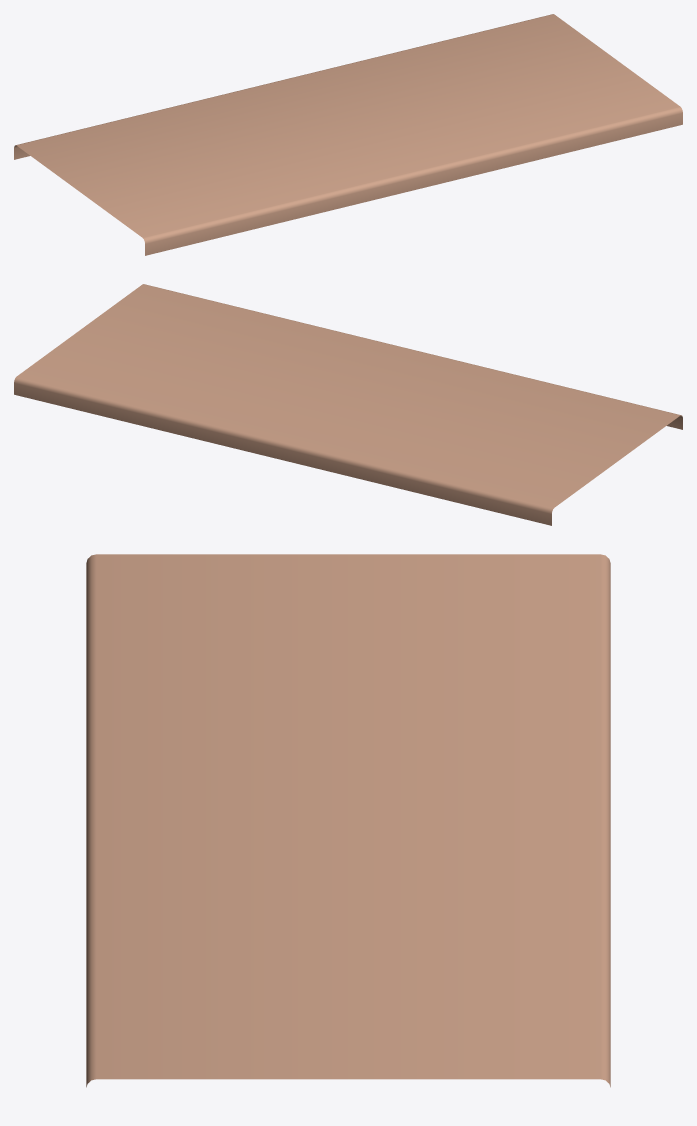
The model's file is Road.fbx.
3 views of the same model, one above another, from view 1: azimuth 30°, elevation 25°; view 2: azimuth 150°, elevation 25°; view 3: azimuth 270°, elevation 25° (orthographic). The views are drawn at different scales.
Parts seen in each view (by area): view 1: Road; view 2: Road; view 3: Road.
Boxes of the visible parts, x1,y1,x2,y2 form: Road: [14, 14, 682, 255]; Road: [14, 284, 682, 525]; Road: [86, 554, 610, 1087].
Size of the model in its own units: 1351 by 38.94 by 570.
